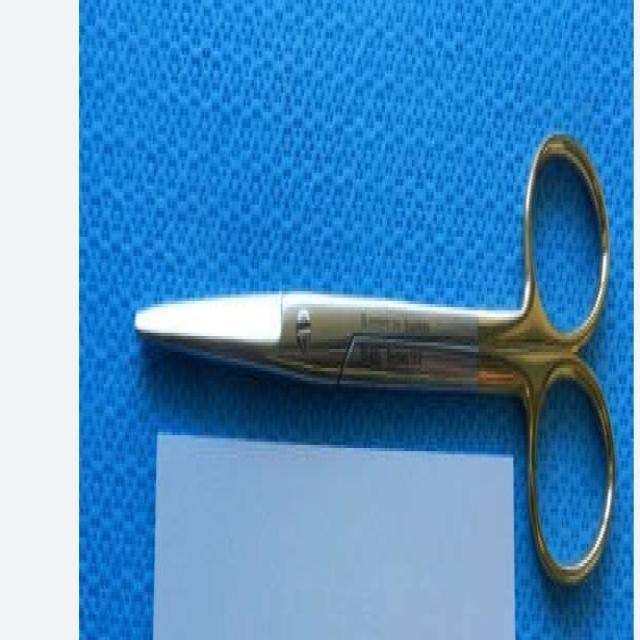Straight Mayo: (133, 124, 616, 592)
